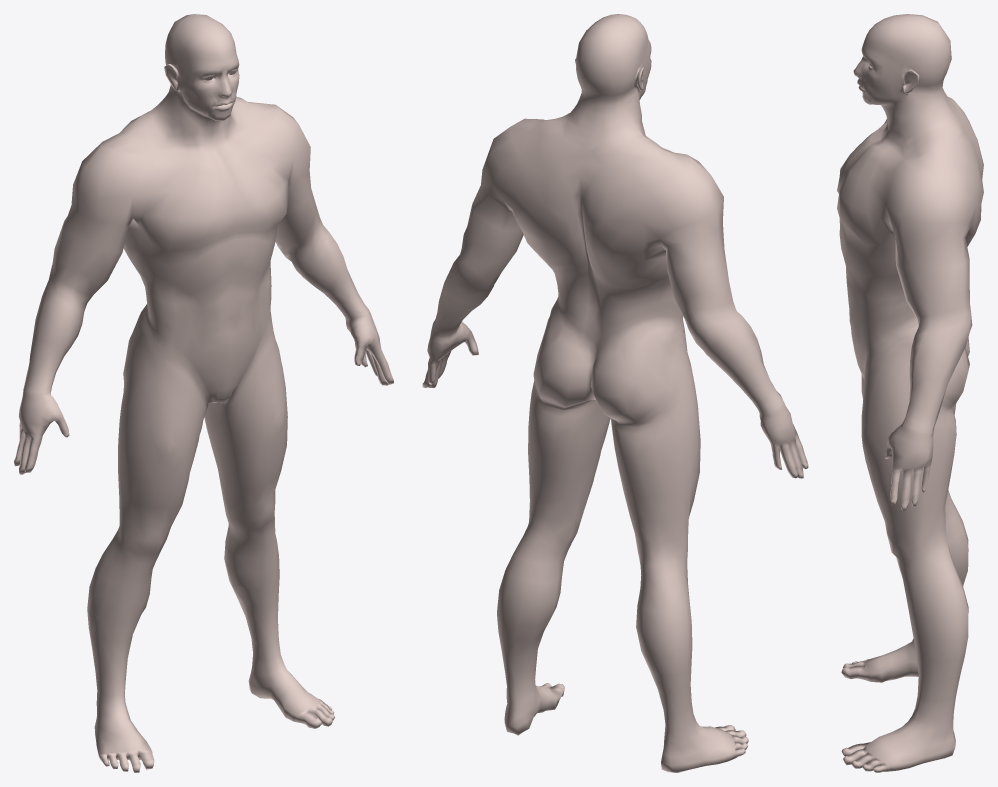
The model's file is Man.fbx.
3 renders of one model, left to right at view 1: azimuth 30°, elevation 25°; view 2: azimuth 150°, elevation 25°; view 3: azimuth 270°, elevation 25°, orthographic. The views are drawn at different scales.
Visible parts, largest first — view 1: ZBrush_defualt_group; view 2: ZBrush_defualt_group; view 3: ZBrush_defualt_group.
Boxes of the visible parts, box(x1,y1,x2,y2) form: ZBrush_defualt_group: box(14, 14, 393, 772); ZBrush_defualt_group: box(422, 14, 808, 772); ZBrush_defualt_group: box(837, 14, 983, 772).
Size of the model in its own units: 98.11 by 180 by 34.11.
